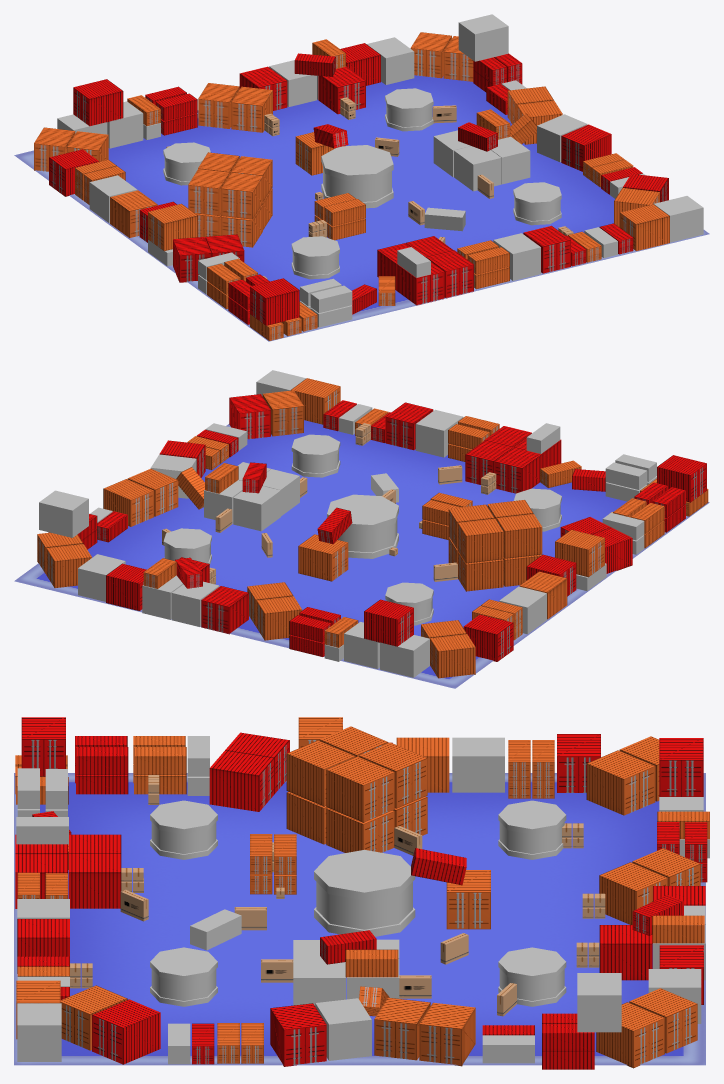
Rendered from stage1.obj.
The picture shows the model from 3 angles, top to bottom: view 1: azimuth 30°, elevation 25°; view 2: azimuth 150°, elevation 25°; view 3: azimuth 270°, elevation 25°; orthographic projection. The views are drawn at different scales.
Visible parts, largest first — view 1: Plane001, Box085, Box169, Box090, Object015, Box216; view 2: Box085, Plane001, Box169, Box090, Object015, Box216; view 3: Plane001, Box085, Box169, Box090, Object015, Box216.
Boxes of the visible parts, box(x1,y1,x2,y2) form: Plane001: box(14, 75, 709, 341); Box085: box(34, 32, 669, 340); Box169: box(49, 43, 668, 325); Box090: box(57, 14, 703, 327); Object015: box(163, 88, 561, 279); Box216: box(166, 97, 573, 279); Box085: box(37, 378, 708, 678); Plane001: box(14, 420, 709, 688); Box169: box(48, 394, 706, 661); Box090: box(39, 370, 656, 677); Object015: box(163, 434, 561, 625); Box216: box(162, 423, 612, 584); Plane001: box(14, 773, 705, 1065); Box085: box(15, 717, 709, 1068); Box169: box(15, 717, 707, 1069); Box090: box(16, 736, 709, 1064); Object015: box(150, 800, 566, 1006); Box216: box(70, 775, 605, 1016).
Size of the model in its own units: 72.43 by 8.56 by 70.84.
